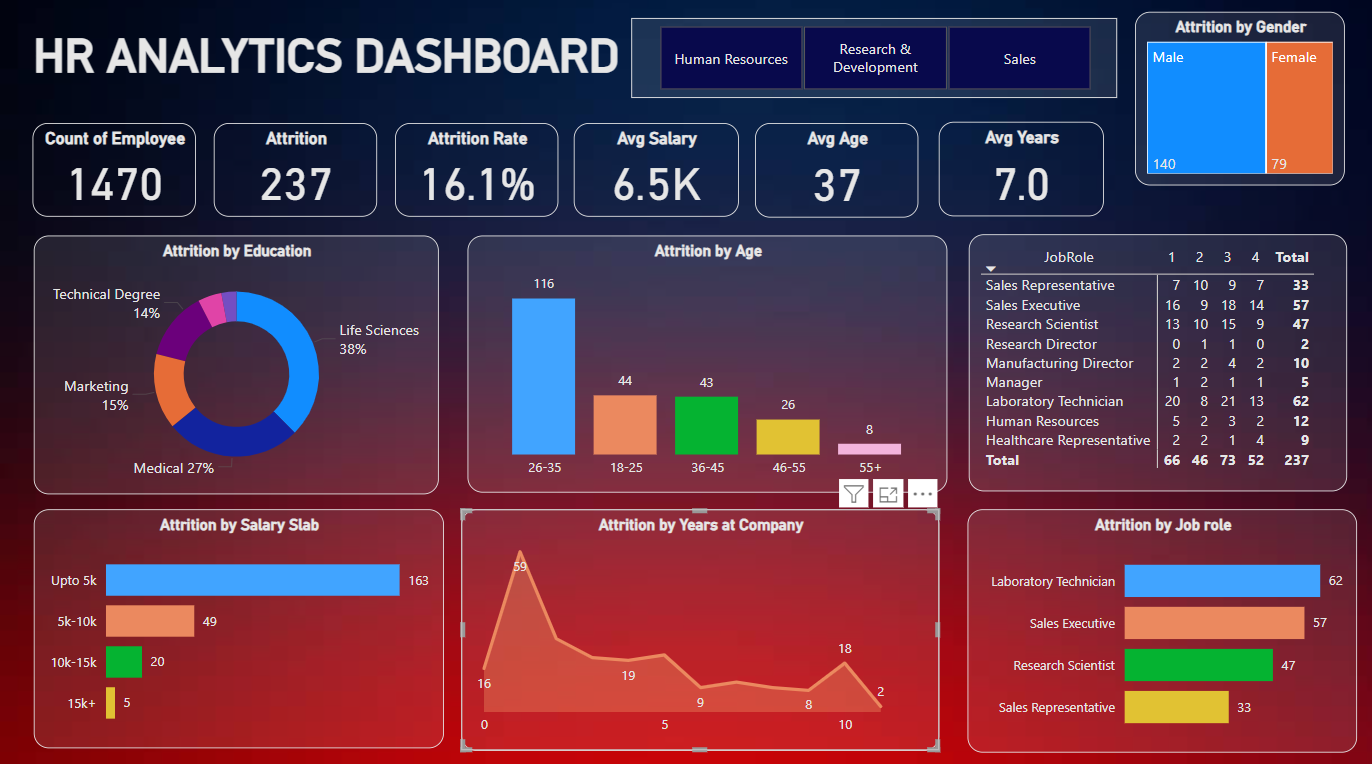

The dashboard page shown, as its layout file describes it:
{"tool":"powerbi","page":{"name":"Page 1","canvas":[1280,720],"ordinal":0},"visuals":[{"type":"card","title":"Count of Employee","fields":{"Values":["CountNonNull(HR_Analytics.EmpID)"]},"box":[30.2,120.9,152.3,87.2],"z":0},{"type":"card","title":"Attrition","fields":{"Values":["Sum(HR_Analytics.AttritionCount)"]},"box":[198.8,120.9,152.3,87.2],"z":1000},{"type":"card","title":"Attrition Rate","fields":{"Values":["HR_Analytics.AttritionRate"]},"box":[367.4,120.9,152.3,87.2],"z":2000},{"type":"card","title":"Avg Salary","fields":{"Values":["Avg(HR_Analytics.MonthlyIncome)"]},"box":[533.7,120.9,153.5,87.2],"z":3000},{"type":"card","title":"Avg Age","fields":{"Values":["Avg(HR_Analytics.Age)"]},"box":[702.3,120.9,152.3,88.4],"z":4000},{"type":"card","title":"Avg Years","fields":{"Values":["Avg(HR_Analytics.YearsAtCompany)"]},"box":[873.3,119.8,153.5,88.4],"z":5000},{"type":"donutChart","title":"Attrition by Education","fields":{"Category":["HR_Analytics.EducationField"],"Y":["Sum(HR_Analytics.AttritionCount)"]},"box":[31.4,225.6,376.7,240.7],"z":6000},{"type":"columnChart","title":"Attrition by Age","fields":{"Category":["HR_Analytics.AgeGroup"],"Y":["Sum(HR_Analytics.AttritionCount)"]},"box":[434.9,225.6,446.5,239.5],"z":7000},{"type":"pivotTable","fields":{"Values":["Sum(HR_Analytics.AttritionCount)"],"Rows":["HR_Analytics.JobRole"],"Columns":["HR_Analytics.JobSatisfaction"]},"box":[901.2,224.4,352.3,239.5],"z":8000},{"type":"barChart","title":"Attrition by Age","fields":{"Category":["HR_Analytics.SalarySlab"],"Y":["Sum(HR_Analytics.AttritionCount)"]},"box":[31.4,480.2,381.4,222.1],"z":9000},{"type":"barChart","title":"Attrition by Age","fields":{"Category":["HR_Analytics.JobRole"],"Y":["Sum(HR_Analytics.AttritionCount)"]},"box":[900,480.2,362.8,226.7],"z":10000},{"type":"areaChart","title":"Attrition by Age","fields":{"Category":["HR_Analytics.YearsAtCompany"],"Y":["Sum(HR_Analytics.AttritionCount)"]},"box":[428.6,480.2,444.7,224.4],"z":11000},{"type":"treemap","title":"Attrition by Age","fields":{"Group":["HR_Analytics.Gender"],"Values":["Sum(HR_Analytics.AttritionCount)"]},"box":[1048.8,17.9,195.3,161.6],"z":12000},{"type":"slicer","fields":{"Values":["HR_Analytics.Department"]},"box":[569.1,23.3,451.9,74.4],"z":13000},{"type":"textbox","title":"HR ANALYTICS DASHBOARD","box":[0,34,555.8,50],"z":14000}]}

Visuals, with their boxes in screenshot pixels (x1, y1, x2, y2), scaled from the page's 1280x720 canvas onto the 1372x764 screenshot:
"Count of Employee" card: [x1=32, y1=128, x2=196, y2=221]
"Attrition" card: [x1=213, y1=128, x2=376, y2=221]
"Attrition Rate" card: [x1=394, y1=128, x2=557, y2=221]
"Avg Salary" card: [x1=572, y1=128, x2=737, y2=221]
"Avg Age" card: [x1=753, y1=128, x2=916, y2=222]
"Avg Years" card: [x1=936, y1=127, x2=1101, y2=221]
"Attrition by Education" donutChart: [x1=34, y1=239, x2=437, y2=495]
"Attrition by Age" columnChart: [x1=466, y1=239, x2=945, y2=494]
pivotTable - Sum(HR_Analytics.AttritionCount) x HR_Analytics.JobRole: [x1=966, y1=238, x2=1344, y2=492]
"Attrition by Age" barChart: [x1=34, y1=510, x2=442, y2=745]
"Attrition by Age" barChart: [x1=965, y1=510, x2=1354, y2=750]
"Attrition by Age" areaChart: [x1=459, y1=510, x2=936, y2=748]
"Attrition by Age" treemap: [x1=1124, y1=19, x2=1334, y2=190]
slicer - HR_Analytics.Department: [x1=610, y1=25, x2=1094, y2=104]
"HR ANALYTICS DASHBOARD" textbox: [x1=0, y1=36, x2=596, y2=89]
